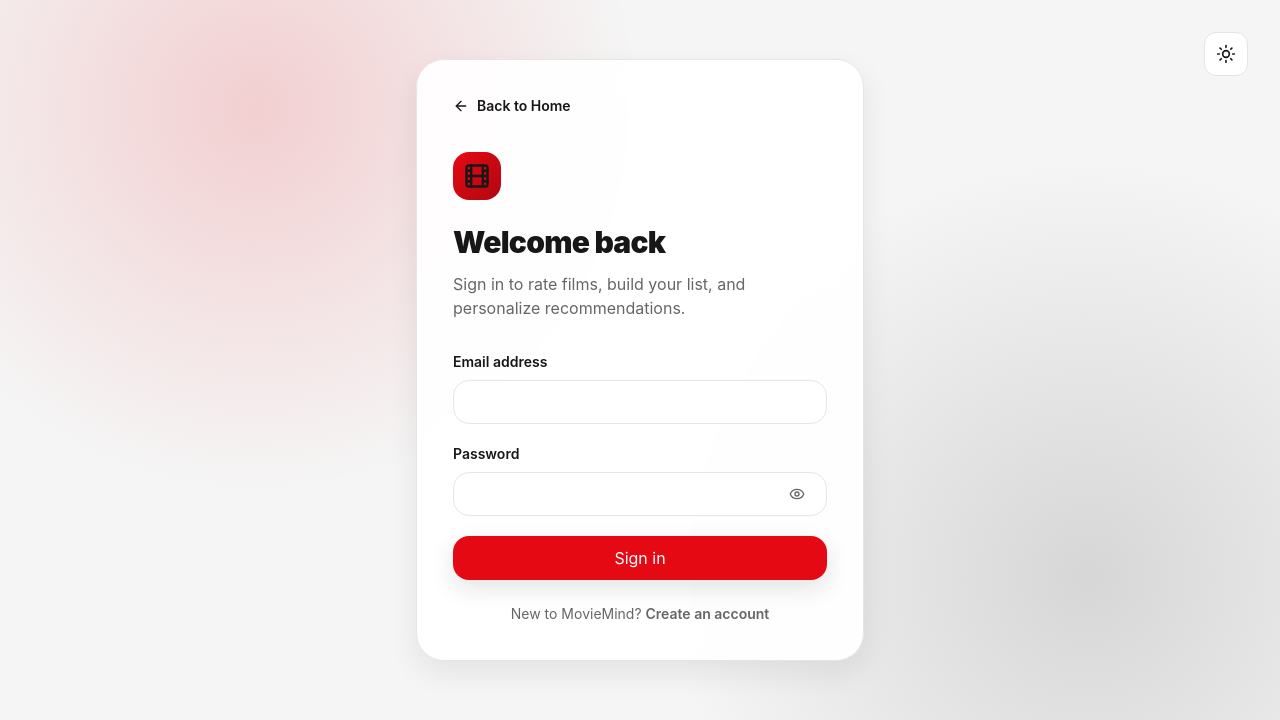
Test: AuthPage › shows a safe request error and preserves the entered email
Type "viewer@example.com" into the field labelled "Email address".
click(640, 402); type("viewer@example.com")  # box [453,380,827,424]
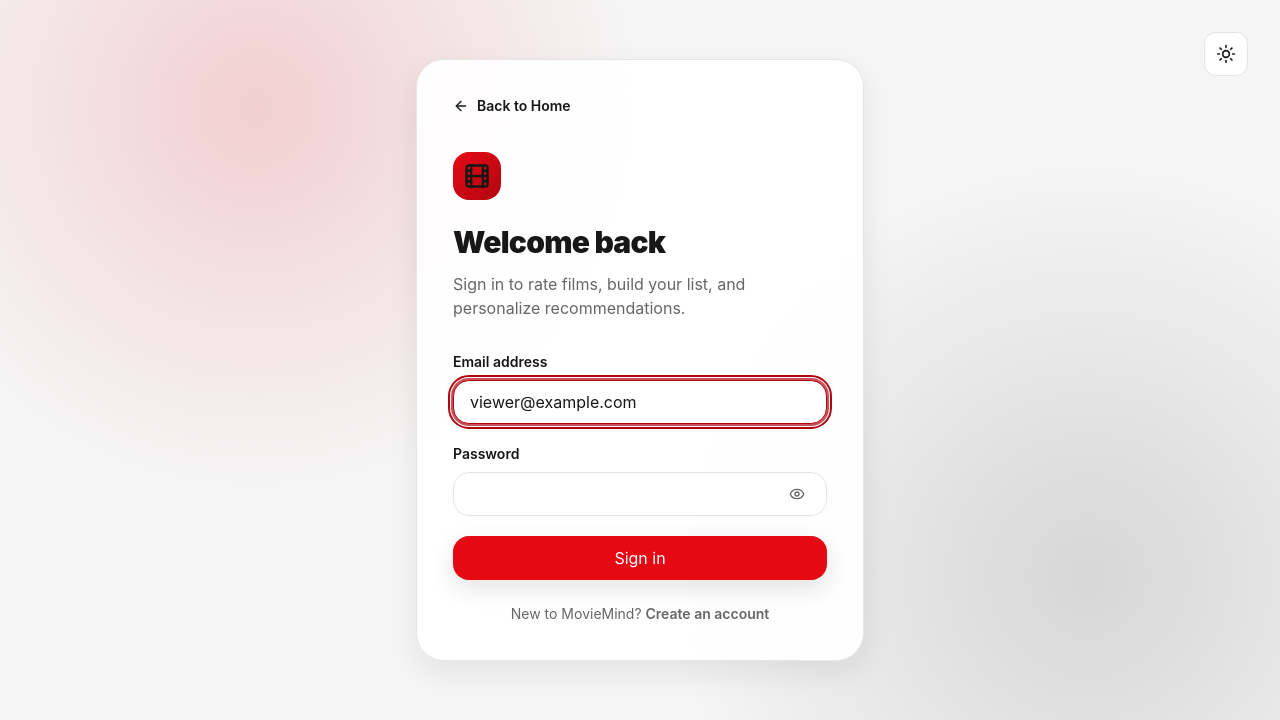
Type "correct-horse" into the password field labelled "Password".
click(640, 494); type("correct-horse")  # box [453,472,827,516]
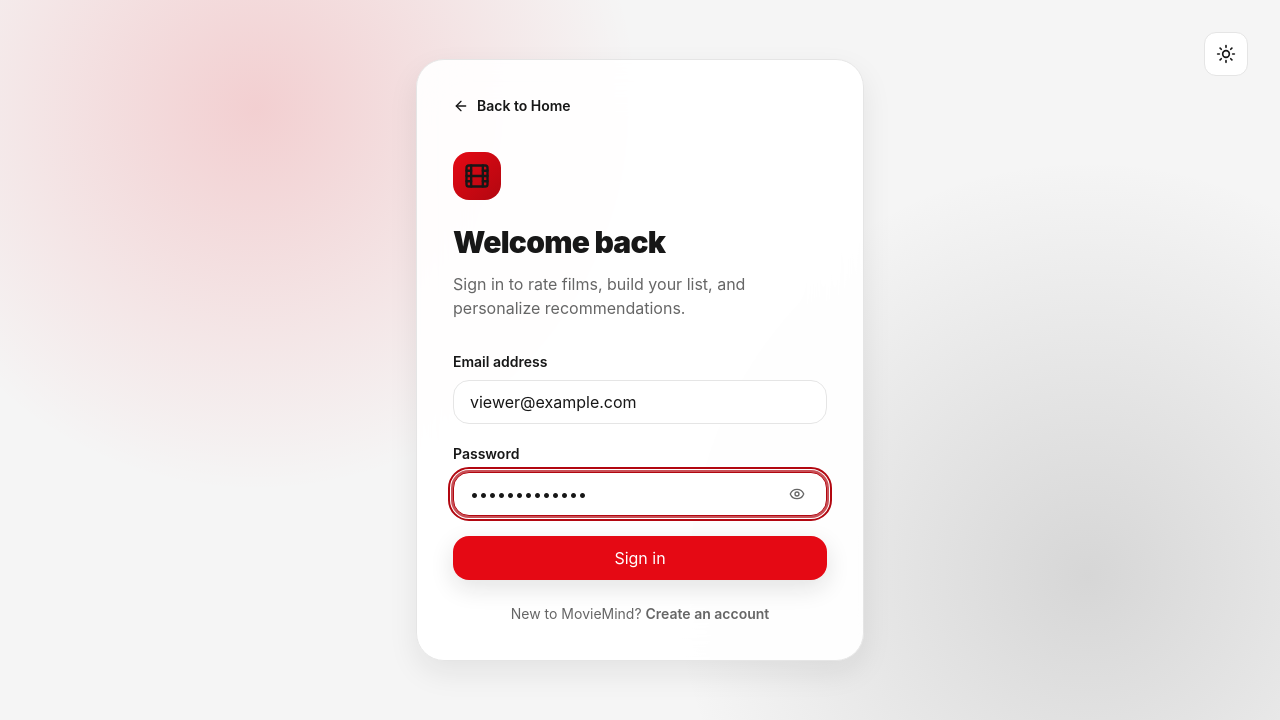
Click the button "Sign in".
click(640, 558)  # box [453,536,827,580]
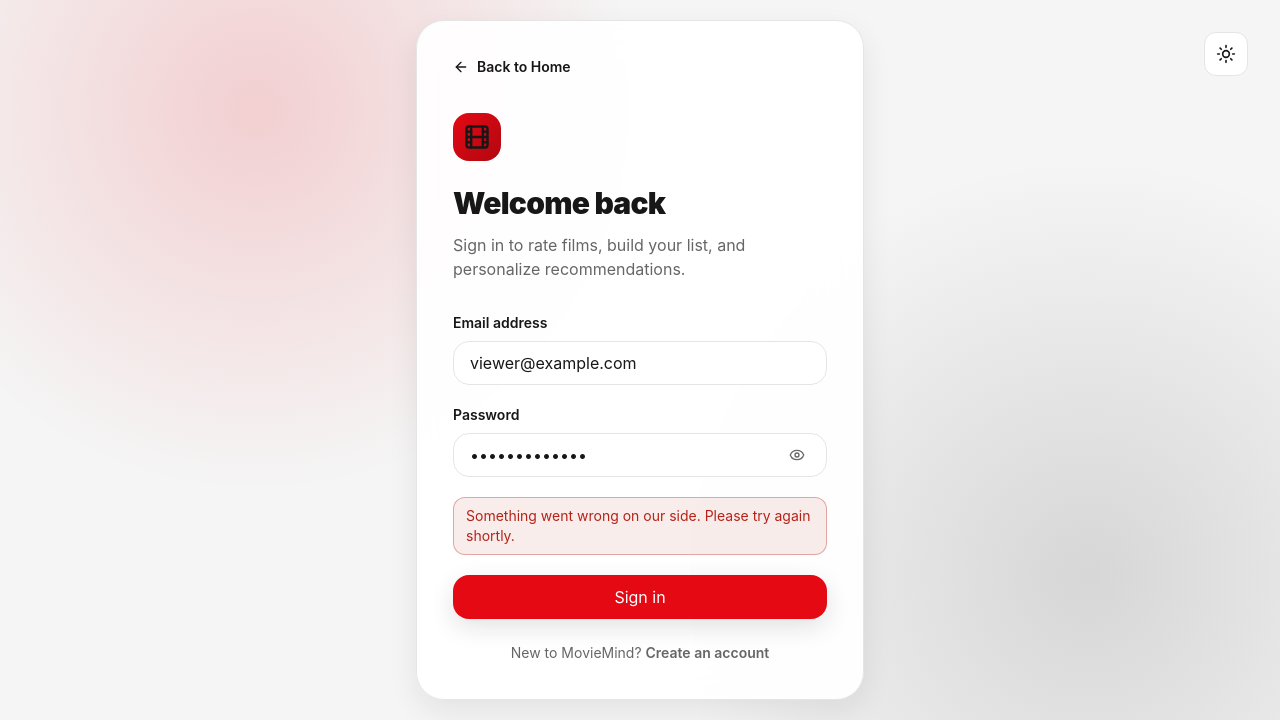
Check: the message shows "Something went wrong on our side.", box [466,507,810,544]
